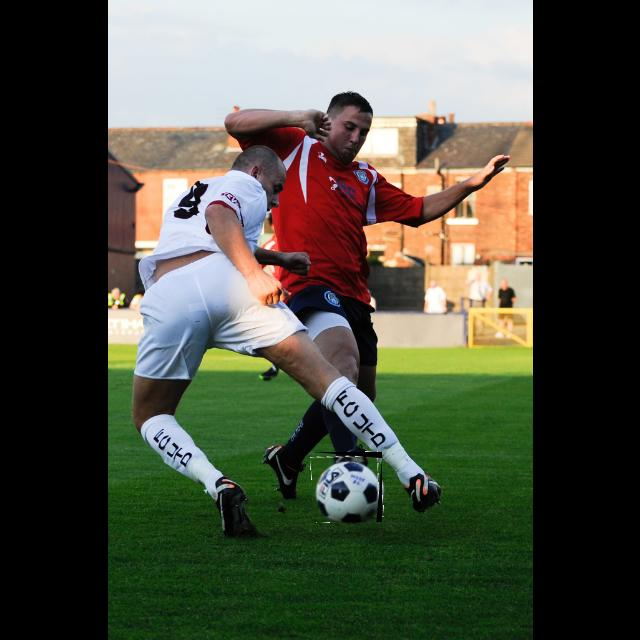Football: (312, 452, 382, 522)
